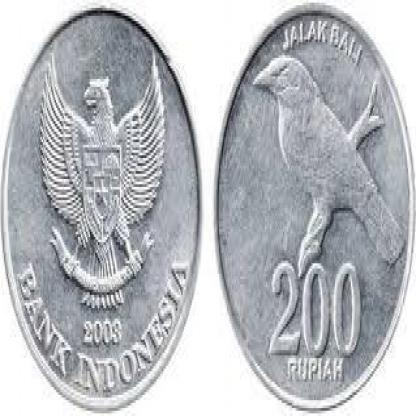coin_200_e2003: (0, 3, 203, 416), (217, 0, 416, 416)
